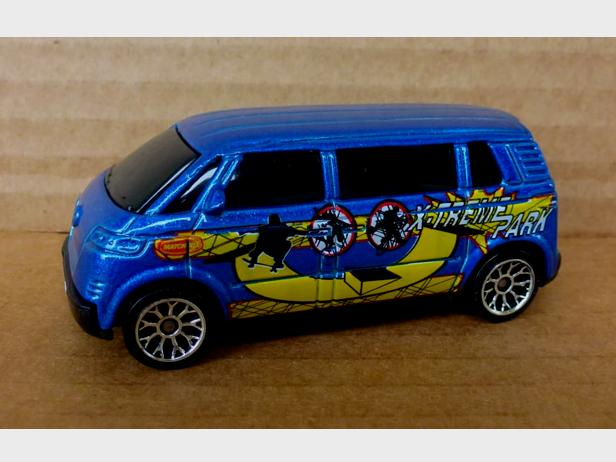toy-car: (61, 102, 562, 370)
